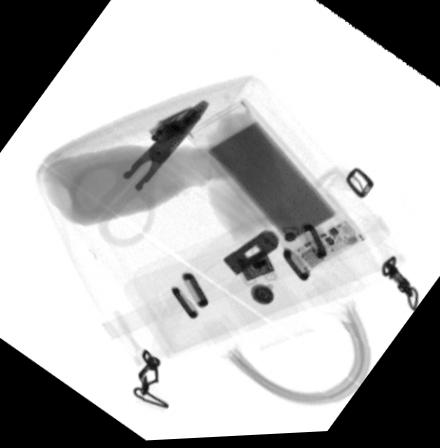Powerbank: (181, 100, 366, 278)
Scissors: (65, 97, 212, 250)
